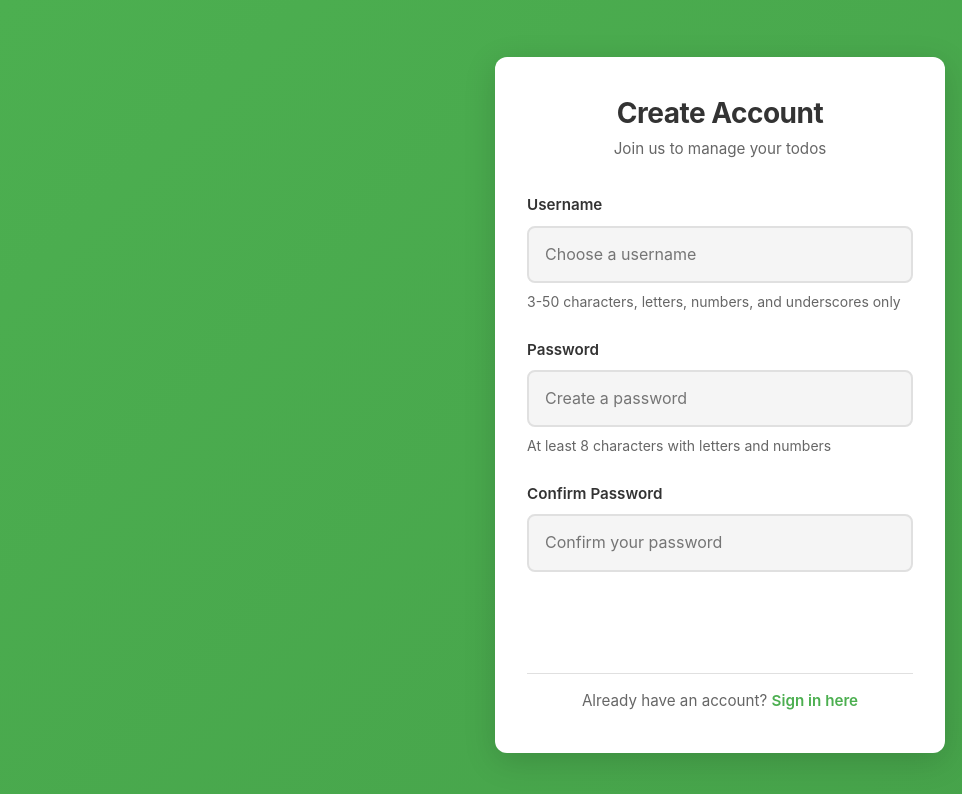
SignupPage.vue › Password Confirmation Validation › shows error when passwords do not match
The width and height of the screenshot is (962, 794).
In the password field labelled "Password": (720, 399) x1=527 y1=370 x2=913 y2=428, type "ValidPass123"
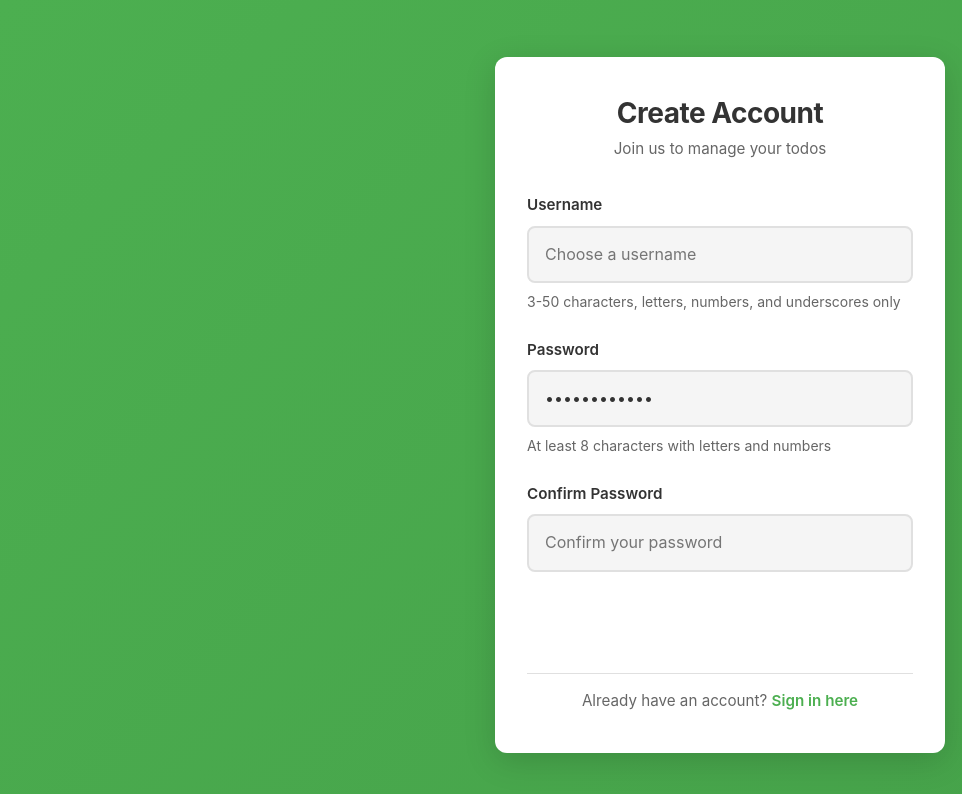
In the password field labelled "Confirm Password": (720, 543) x1=527 y1=514 x2=913 y2=572, type "DifferentPass123"
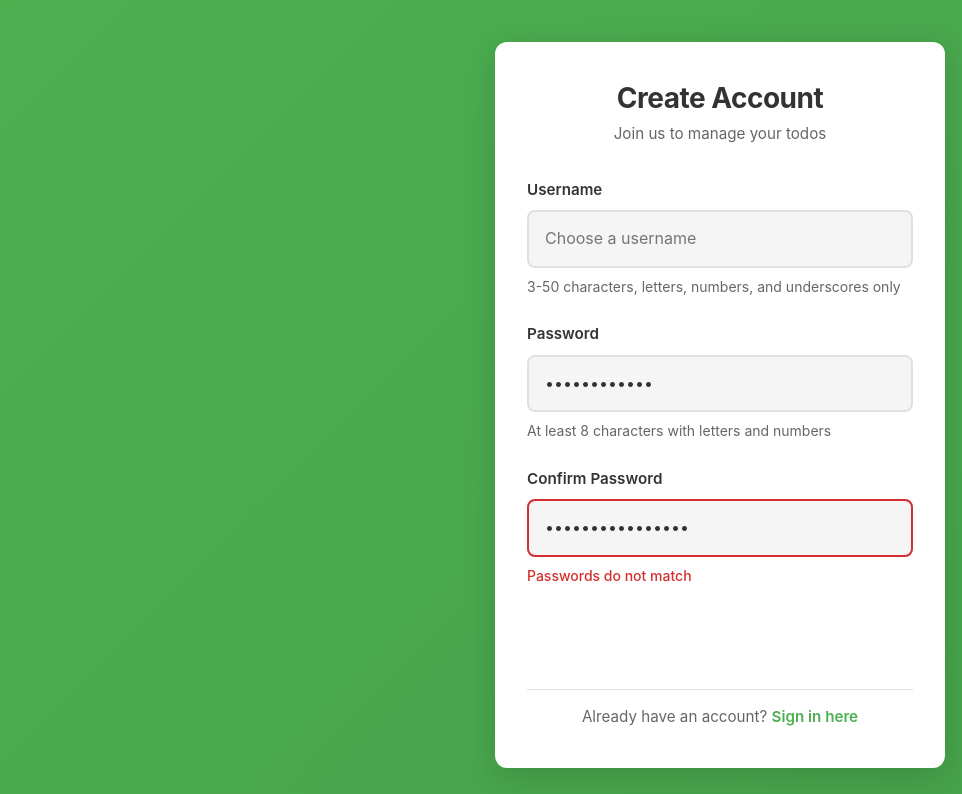
Expected: the message "Passwords do not match" is shown, x1=527 y1=566 x2=692 y2=584
